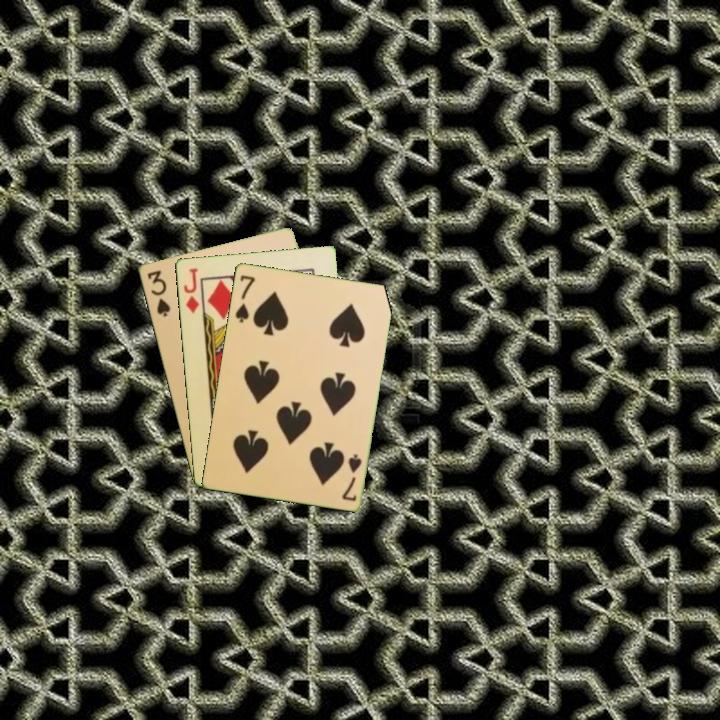3s: (143, 266, 173, 319)
7s: (231, 271, 258, 325), (338, 450, 364, 504)
Jd: (180, 264, 202, 316)
